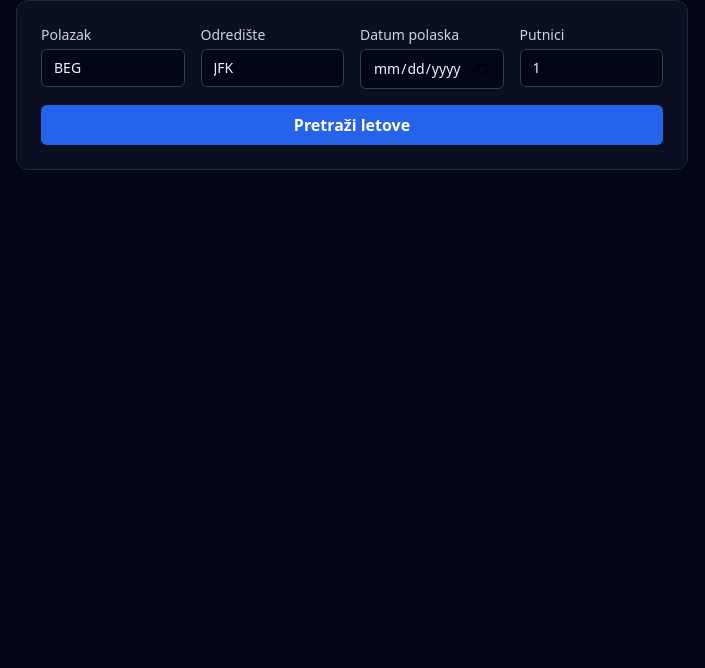
SearchForm › surfaces an error when the card form itself fails to tokenize the card
Click the button "Pretraži letove" at (352, 125), box left=41, top=105, right=663, bottom=145
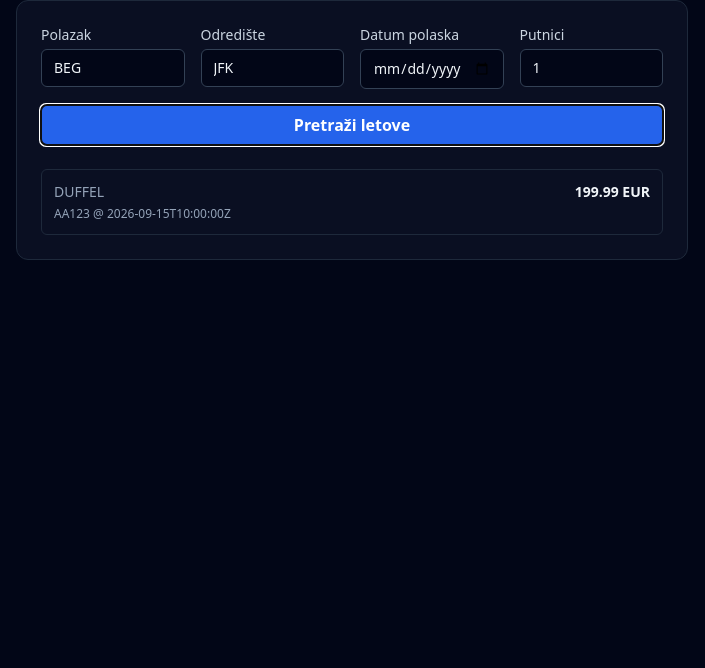
Click the list item "duffel" at (352, 202), box left=41, top=169, right=663, bottom=235
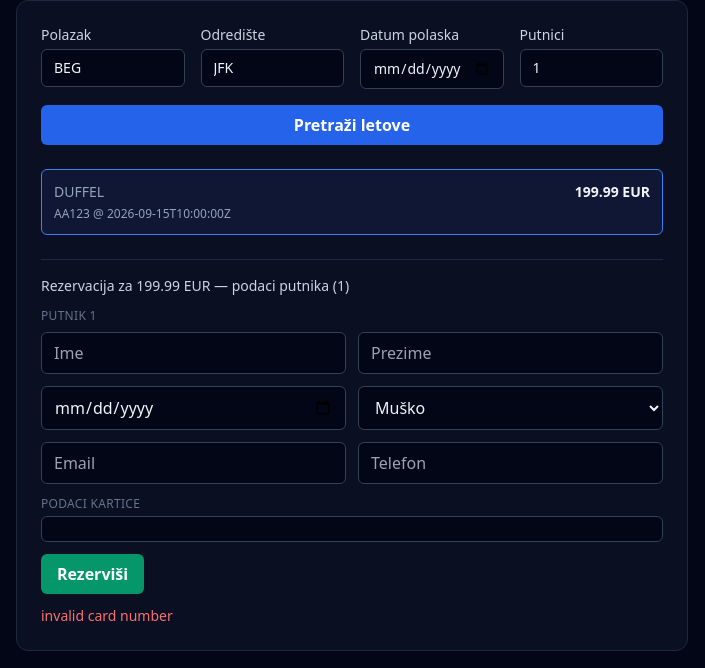
Expected: the text "invalid card number" is shown, left=41, top=606, right=173, bottom=625
